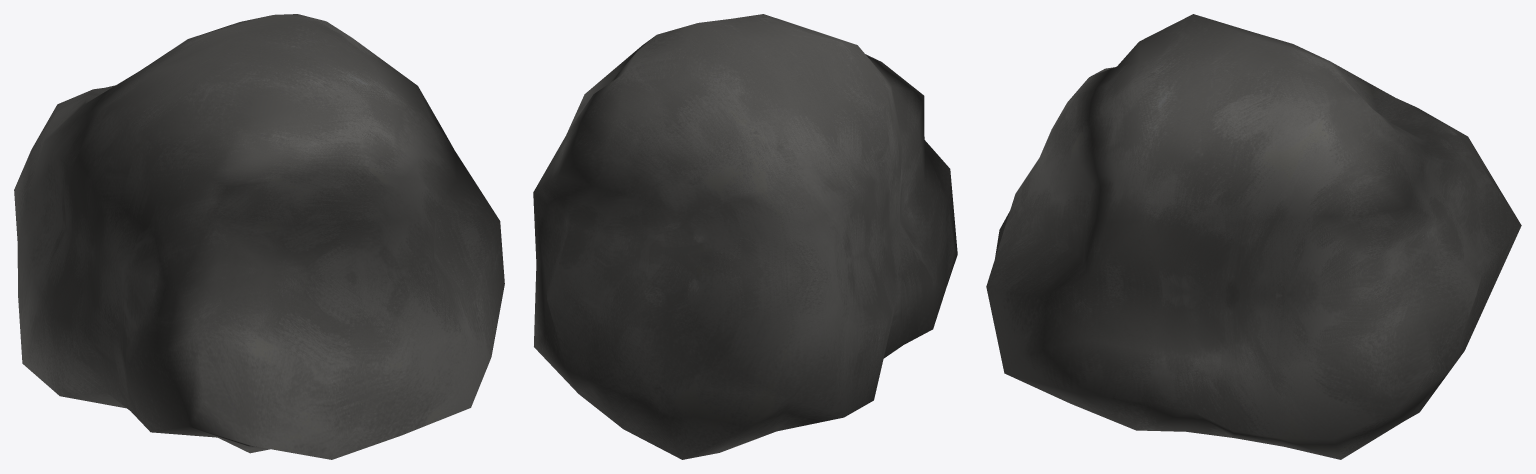
The model's file is Rock03_Geo.fbx.
The picture shows the model from 3 angles, left to right: view 1: azimuth 30°, elevation 25°; view 2: azimuth 150°, elevation 25°; view 3: azimuth 270°, elevation 25°; orthographic projection. The views are drawn at different scales.
Parts seen in each view (by area): view 1: Rock03_Geo; view 2: Rock03_Geo; view 3: Rock03_Geo.
Part boxes in pixels (x1,y1,x2,y2): Rock03_Geo: [14, 14, 504, 459]; Rock03_Geo: [533, 14, 957, 459]; Rock03_Geo: [986, 14, 1521, 459].
Size of the model in its own units: 72.53 by 75.78 by 96.03.
